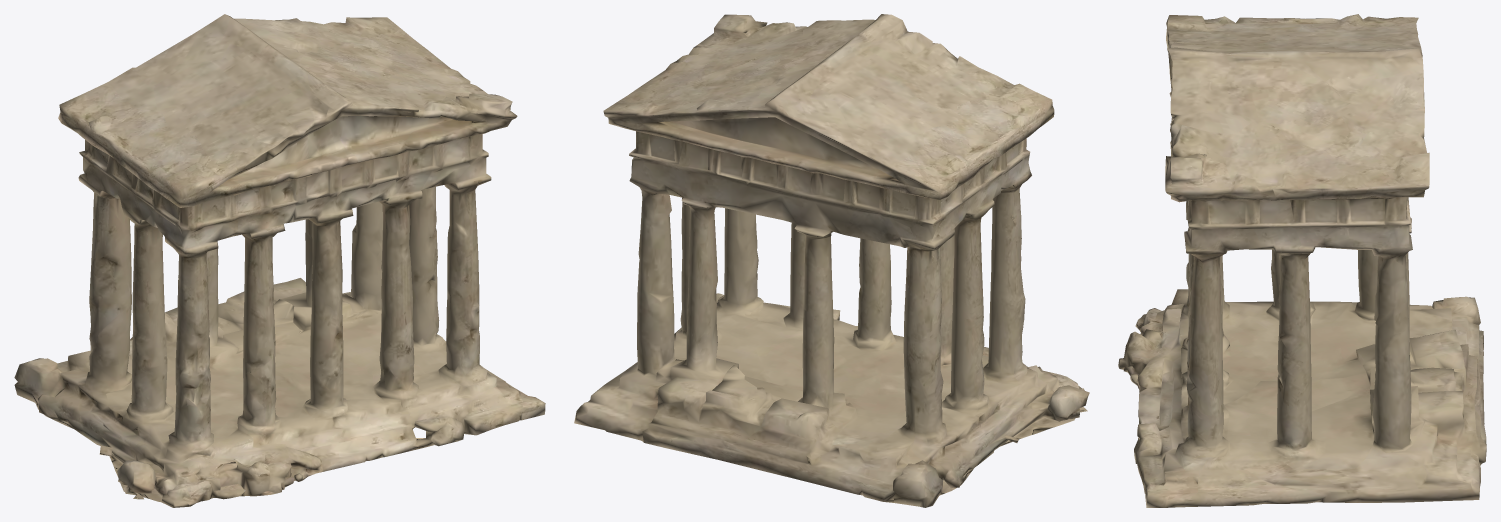
Rendered from parthenon.glb.
3 renders of one model, left to right at view 1: azimuth 30°, elevation 25°; view 2: azimuth 150°, elevation 25°; view 3: azimuth 270°, elevation 25°, orthographic. The views are drawn at different scales.
Parts seen in each view (by area): view 1: tripo_node_bd7fcd71-8204-4975-97b2-3d1c0f00eb0b; view 2: tripo_node_bd7fcd71-8204-4975-97b2-3d1c0f00eb0b; view 3: tripo_node_bd7fcd71-8204-4975-97b2-3d1c0f00eb0b.
Part boxes in pixels (x1,y1,x2,y2): tripo_node_bd7fcd71-8204-4975-97b2-3d1c0f00eb0b: (14,14,545,507); tripo_node_bd7fcd71-8204-4975-97b2-3d1c0f00eb0b: (574,14,1089,507); tripo_node_bd7fcd71-8204-4975-97b2-3d1c0f00eb0b: (1118,14,1486,507).
Bounding box in the file's own units: 1 × 0.845 × 0.7698.
1 material, 1 textured.
